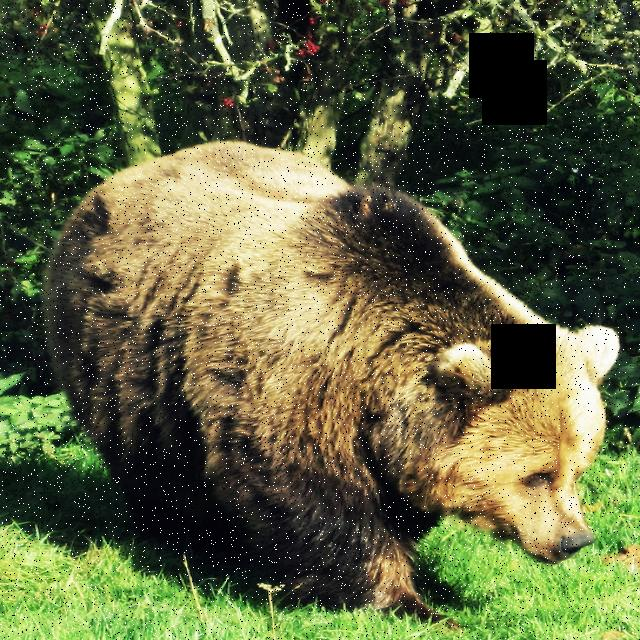Bear: (39, 134, 619, 612)
